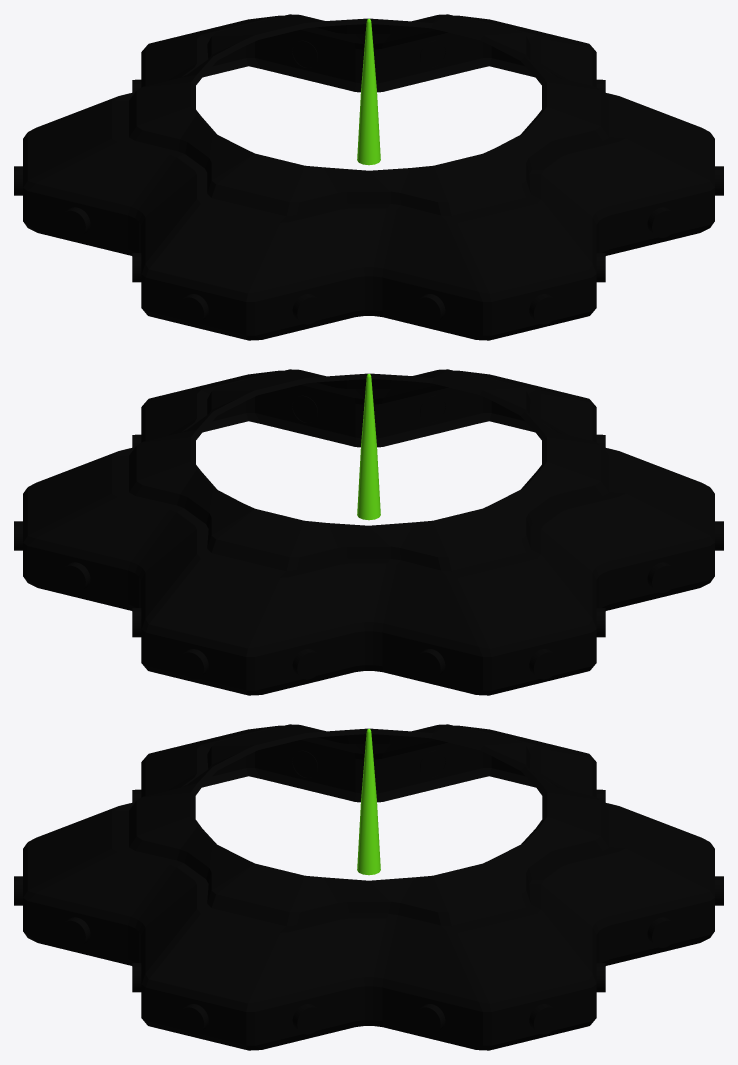
File: Holo_Centre.fbx
3 renders of one model, top to bottom at view 1: azimuth 30°, elevation 25°; view 2: azimuth 150°, elevation 25°; view 3: azimuth 270°, elevation 25°, orthographic.
Visible parts, largest first — view 1: Holo_Centre; view 2: Holo_Centre; view 3: Holo_Centre.
Part boxes in pixels (x1=…): Holo_Centre: x1=14, y1=14, x2=723, y2=340; Holo_Centre: x1=14, y1=369, x2=723, y2=695; Holo_Centre: x1=14, y1=724, x2=723, y2=1050.
Size of the model in its own units: 2135 by 2306 by 666.
